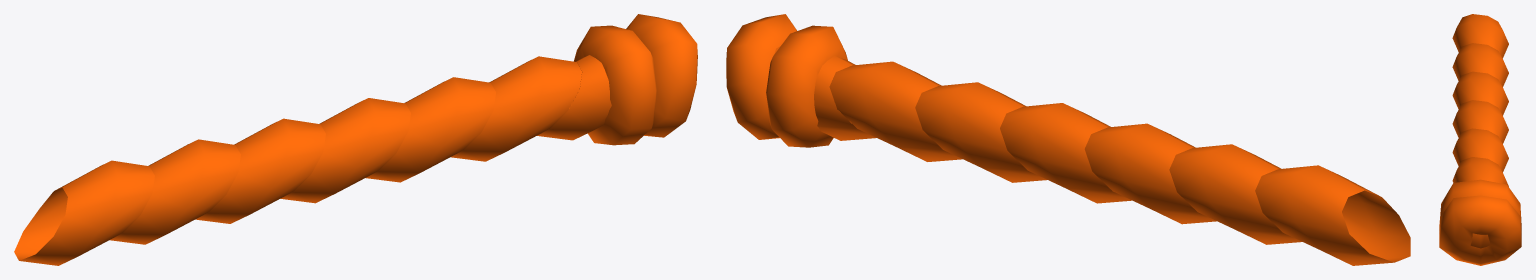
Rendered from Rope_Low.fbx.
The picture shows the model from 3 angles, left to right: view 1: azimuth 30°, elevation 25°; view 2: azimuth 150°, elevation 25°; view 3: azimuth 270°, elevation 25°; orthographic projection. The views are drawn at different scales.
Visible parts, largest first — view 1: pCylinder83, pCylinder95, pCylinder87, pCylinder88, pCylinder90, pCylinder89, pTorus4, pTorus3, pCylinder93; view 2: pCylinder83, pCylinder95, pCylinder87, pCylinder89, pCylinder88, pCylinder90, pTorus4, pTorus3, pCylinder93; view 3: pTorus3, pTorus4, pCylinder83, pCylinder88, pCylinder95, pCylinder90, pCylinder89, pCylinder87.
Boxes of the visible parts, x1,y1,x2,y2 form: pCylinder83: (14, 160, 154, 265); pCylinder95: (109, 139, 240, 244); pCylinder87: (451, 56, 581, 161); pCylinder88: (366, 77, 495, 182); pCylinder90: (195, 118, 325, 223); pCylinder89: (280, 98, 410, 203); pTorus4: (573, 25, 656, 145); pTorus3: (626, 14, 697, 137); pCylinder93: (537, 55, 611, 140); pCylinder83: (1255, 165, 1410, 265); pCylinder95: (1169, 144, 1301, 244); pCylinder87: (829, 61, 962, 161); pCylinder89: (1000, 103, 1131, 203); pCylinder88: (915, 82, 1046, 182); pCylinder90: (1084, 123, 1216, 224); pTorus4: (766, 25, 847, 147); pTorus3: (726, 14, 796, 139); pCylinder93: (774, 46, 876, 140); pTorus3: (1439, 195, 1521, 265); pTorus4: (1439, 179, 1521, 248); pCylinder83: (1452, 14, 1508, 58); pCylinder88: (1452, 128, 1508, 172); pCylinder95: (1452, 43, 1508, 86); pCylinder90: (1452, 71, 1508, 115); pCylinder89: (1452, 100, 1508, 143); pCylinder87: (1452, 157, 1508, 186).
Size of the model in its own units: 112 by 17.81 by 17.31.
